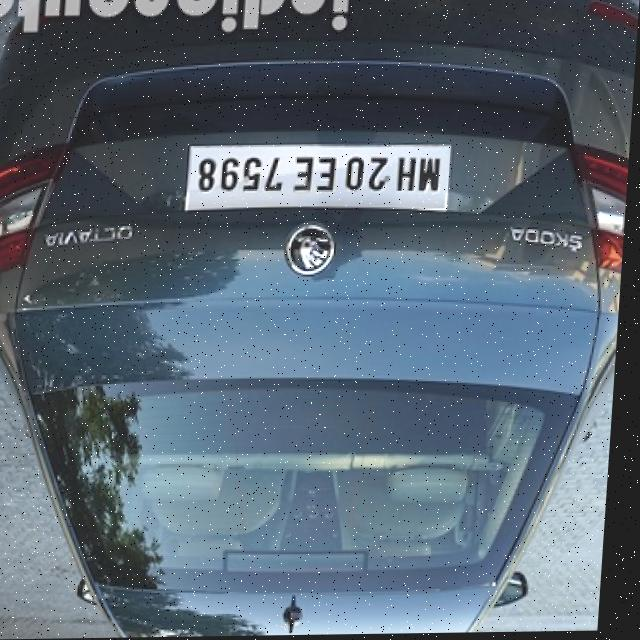plate: (184, 142, 458, 220)
